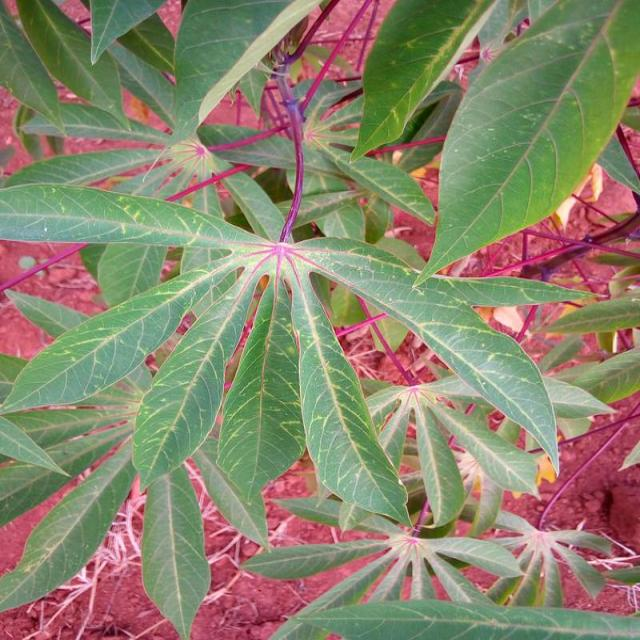cassava leaf: (0, 0, 638, 637), (413, 0, 638, 285), (284, 252, 413, 530)
